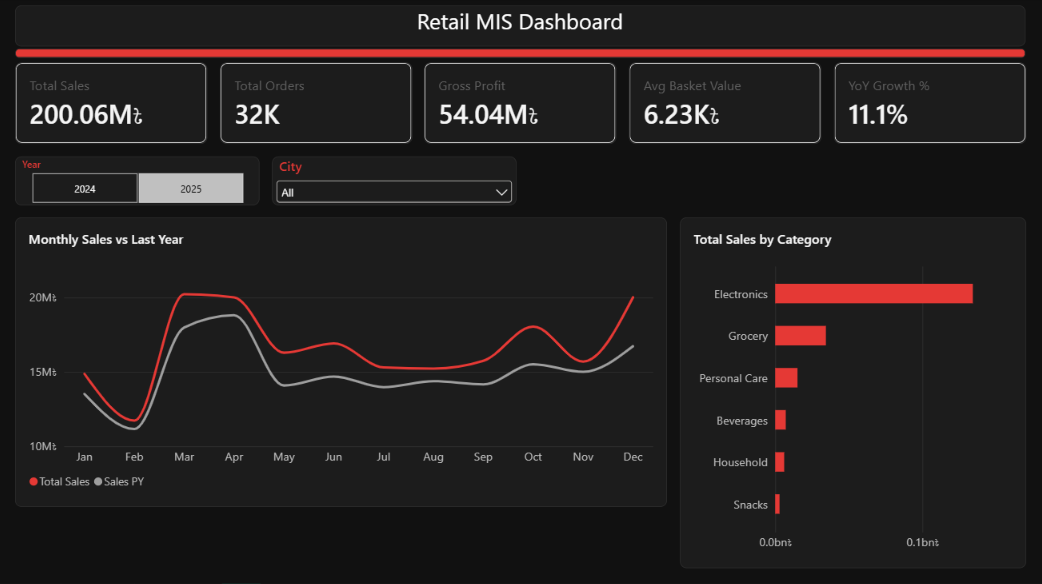

What the dashboard file says about the page in this screenshot:
{"tool":"powerbi","page":{"name":"Overview","canvas":[1280,720],"ordinal":0},"visuals":[{"type":"textbox","box":[20,10,1240,50],"z":0},{"type":"shape","box":[20,62,1240,12],"z":1000},{"type":"cardVisual","fields":{"Data":["_Measures.Total Sales"]},"box":[20,80,236,100],"z":2000},{"type":"cardVisual","fields":{"Data":["_Measures.Total Orders"]},"box":[271,80,236,100],"z":3000},{"type":"cardVisual","fields":{"Data":["_Measures.Gross Profit"]},"box":[522,80,236,100],"z":4000},{"type":"cardVisual","fields":{"Data":["_Measures.Avg Basket Value"]},"box":[773,80,236,100],"z":5000},{"type":"cardVisual","fields":{"Data":["_Measures.YoY Growth %"]},"box":[1024,80,236,100],"z":6000},{"type":"slicer","fields":{"Values":["Dim_Date.Year"]},"box":[20,195,300,60],"z":7000},{"type":"slicer","fields":{"Values":["Dim_Store.City"]},"box":[335,195,300,60],"z":8000},{"type":"lineChart","title":"Monthly Sales vs Last Year","fields":{"Category":["Dim_Date.MonthName"],"Y":["_Measures.Total Sales","_Measures.Sales PY"]},"box":[20,270,800,355],"z":9000},{"type":"clusteredBarChart","fields":{"Category":["Dim_Product.Category"],"Y":["_Measures.Total Sales"]},"box":[835,270,425,430],"z":10000}]}

Visuals, with their boxes in screenshot pixels (x1, y1, x2, y2), scaled from the page's 1280x720 canvas onto the 1042x584 screenshot:
textbox: left=16, top=8, right=1026, bottom=49
shape: left=16, top=50, right=1026, bottom=60
cardVisual - _Measures.Total Sales: left=16, top=65, right=208, bottom=146
cardVisual - _Measures.Total Orders: left=221, top=65, right=413, bottom=146
cardVisual - _Measures.Gross Profit: left=425, top=65, right=617, bottom=146
cardVisual - _Measures.Avg Basket Value: left=629, top=65, right=821, bottom=146
cardVisual - _Measures.YoY Growth %: left=834, top=65, right=1026, bottom=146
slicer - Dim_Date.Year: left=16, top=158, right=260, bottom=207
slicer - Dim_Store.City: left=273, top=158, right=517, bottom=207
"Monthly Sales vs Last Year" lineChart: left=16, top=219, right=668, bottom=507
clusteredBarChart - Dim_Product.Category x _Measures.Total Sales: left=680, top=219, right=1026, bottom=568
